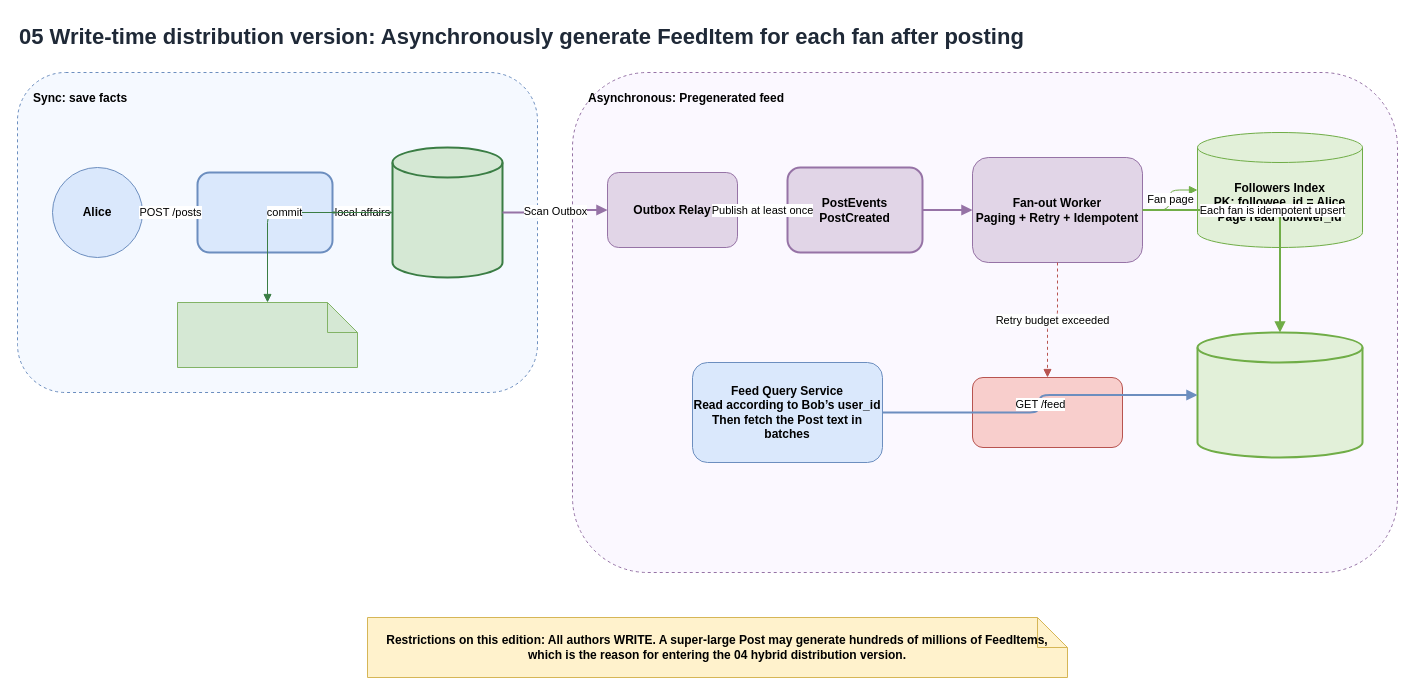
The diagram is 1415 pixels wide and 695 high, and some of its shapes have lost their labels. Each missing label, with the centre of its shape:
201 Created No waiting for fan-out: point (267, 335)
DLQ Permanent Error: point (1047, 412)
FeedItem Store PK: user_id SK: rank_time DESC unique(user_id, post_id): point (1279, 394)
Post Service: point (264, 212)
Post Store Same transaction Post + Outbox: point (447, 212)
